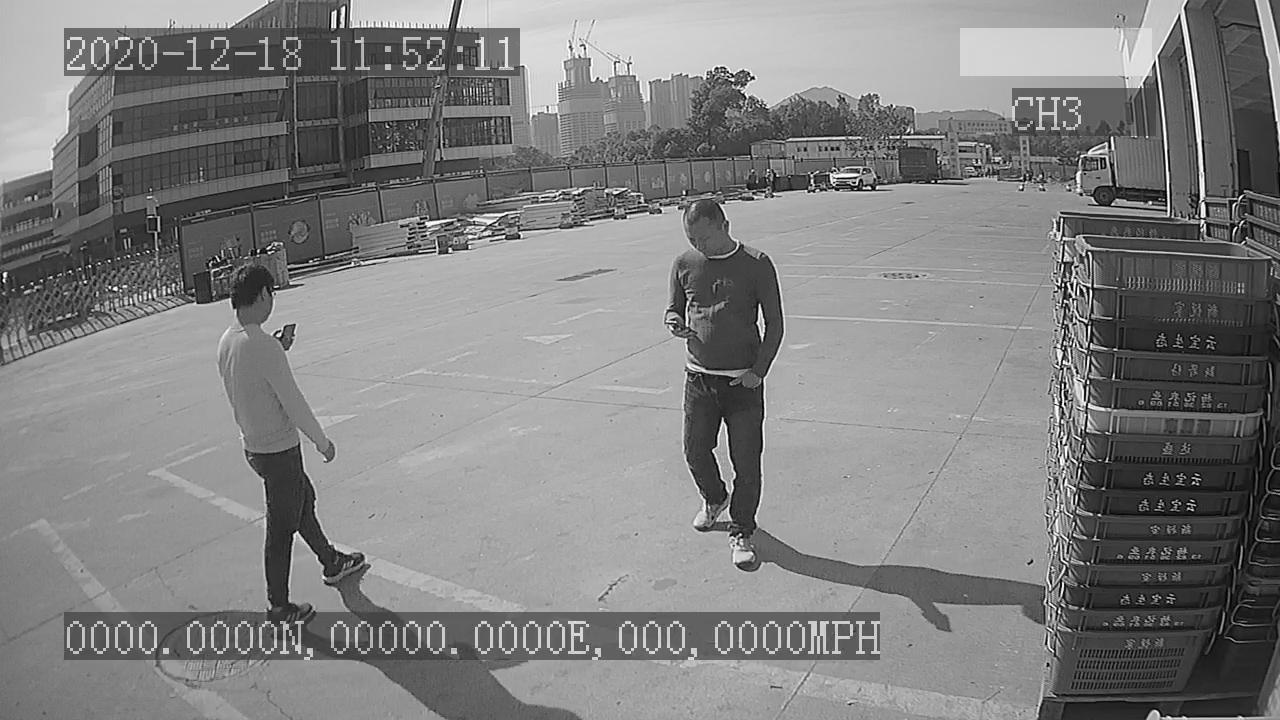person: (652, 192, 793, 577)
